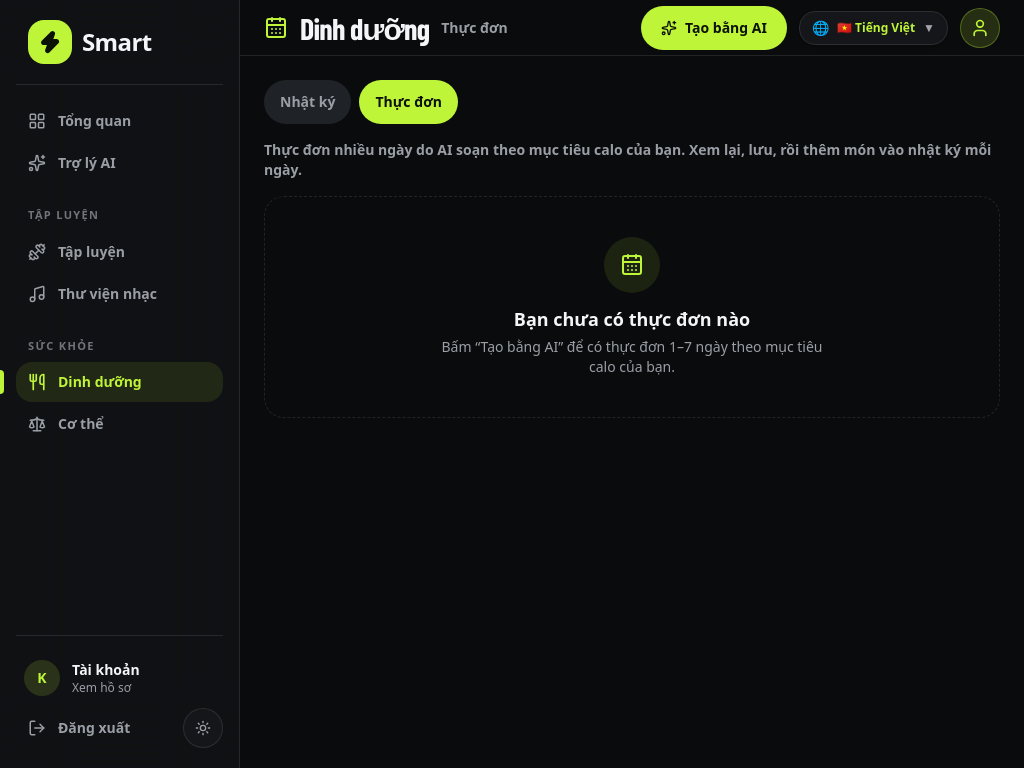
Test case: Meal plans: AI draft › a generated plan opens in the editor and nothing is saved until "Lưu thực đơn"
Click the button "Tạo bằng AI".
click(714, 28)  # box 641,6 -> 787,50
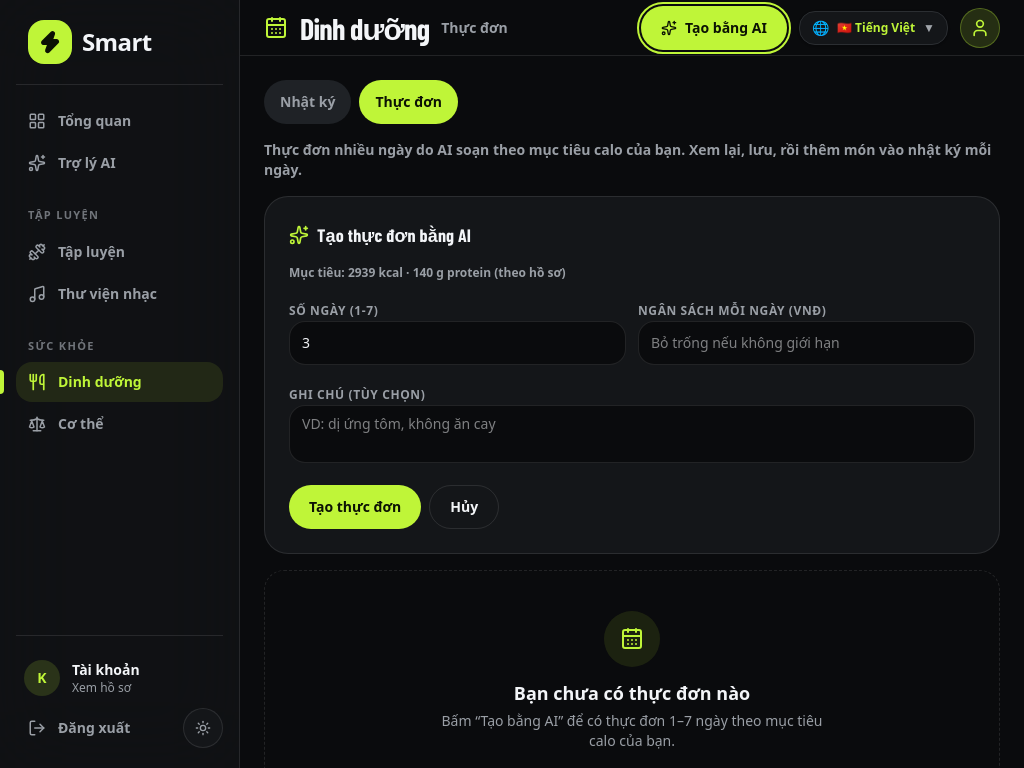
Click the button "Tạo thực đơn".
click(355, 507)  # box 289,485 -> 421,529
(page scrolled)
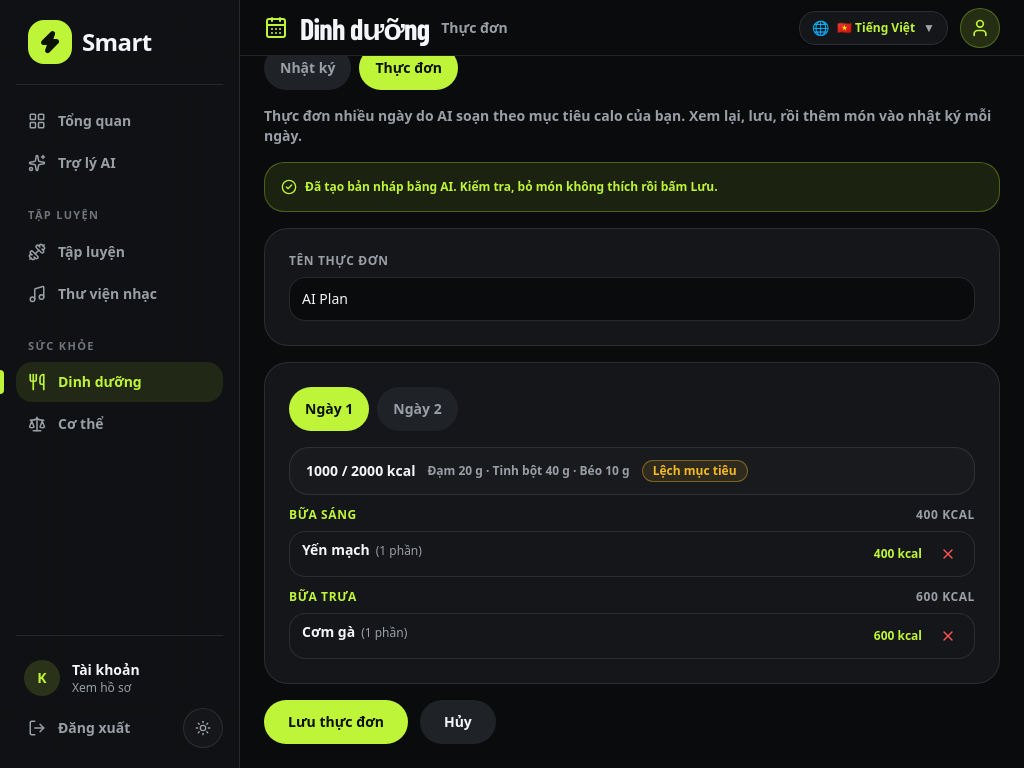
Expected: the field labelled "Tên thực đơn" holds "AI Plan", 289,277 -> 975,321
Expected: the message shows "Đã tạo bản nháp bằng AI", 305,178 -> 718,195
Click the button "Lưu thực đơn".
click(336, 722)  # box 264,700 -> 408,744
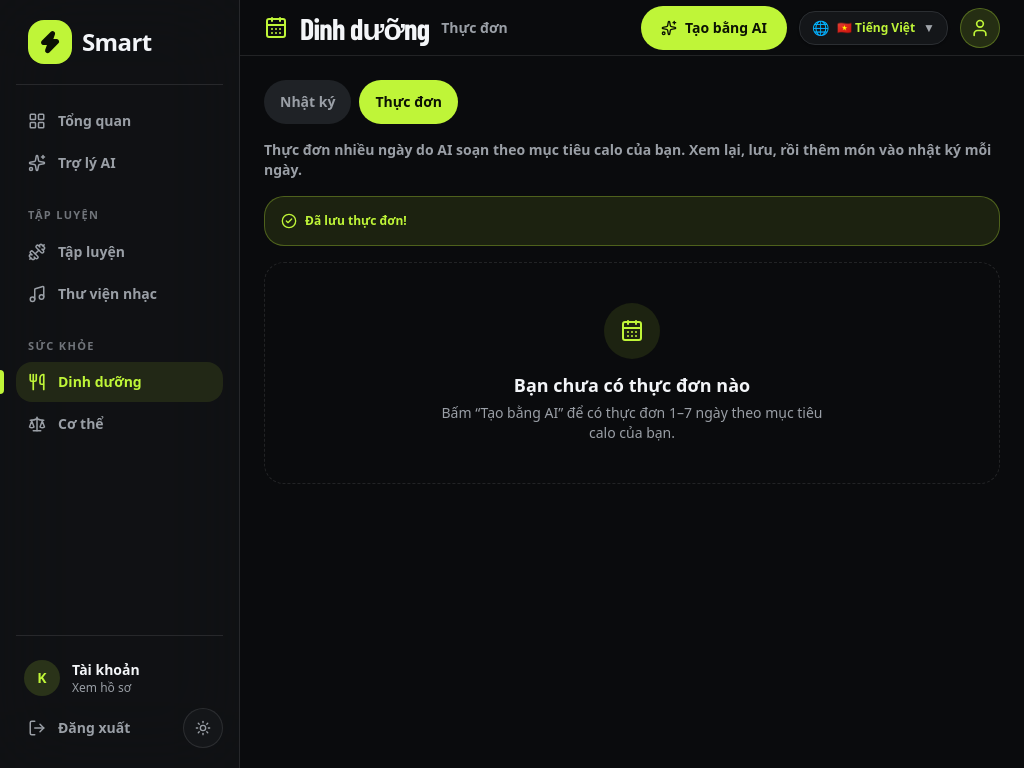
Expected: the message shows "Đã lưu thực đơn", 305,212 -> 407,229
